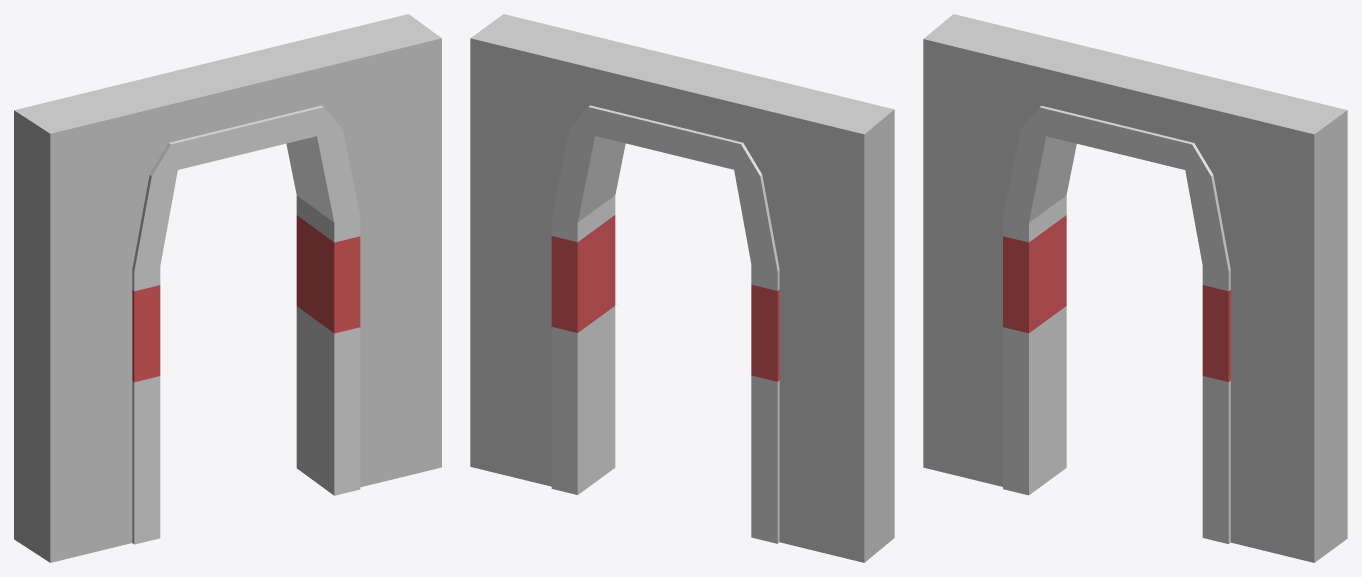
Rendered from doorEntry.fbx.
The picture shows the model from 3 angles, left to right: view 1: azimuth 30°, elevation 25°; view 2: azimuth 150°, elevation 25°; view 3: azimuth 330°, elevation 25°; orthographic projection.
Visible parts, largest first — view 1: Cube.001, Cube; view 2: Cube.001, Cube; view 3: Cube.001, Cube.
Part boxes in pixels (x1=…): Cube.001: x1=14, y1=14, x2=441, y2=562; Cube: x1=132, y1=105, x2=360, y2=544; Cube.001: x1=470, y1=14, x2=894, y2=562; Cube: x1=551, y1=105, x2=779, y2=543; Cube.001: x1=923, y1=14, x2=1347, y2=562; Cube: x1=1003, y1=105, x2=1230, y2=543.
Size of the model in its own units: 454 by 472 by 75.
